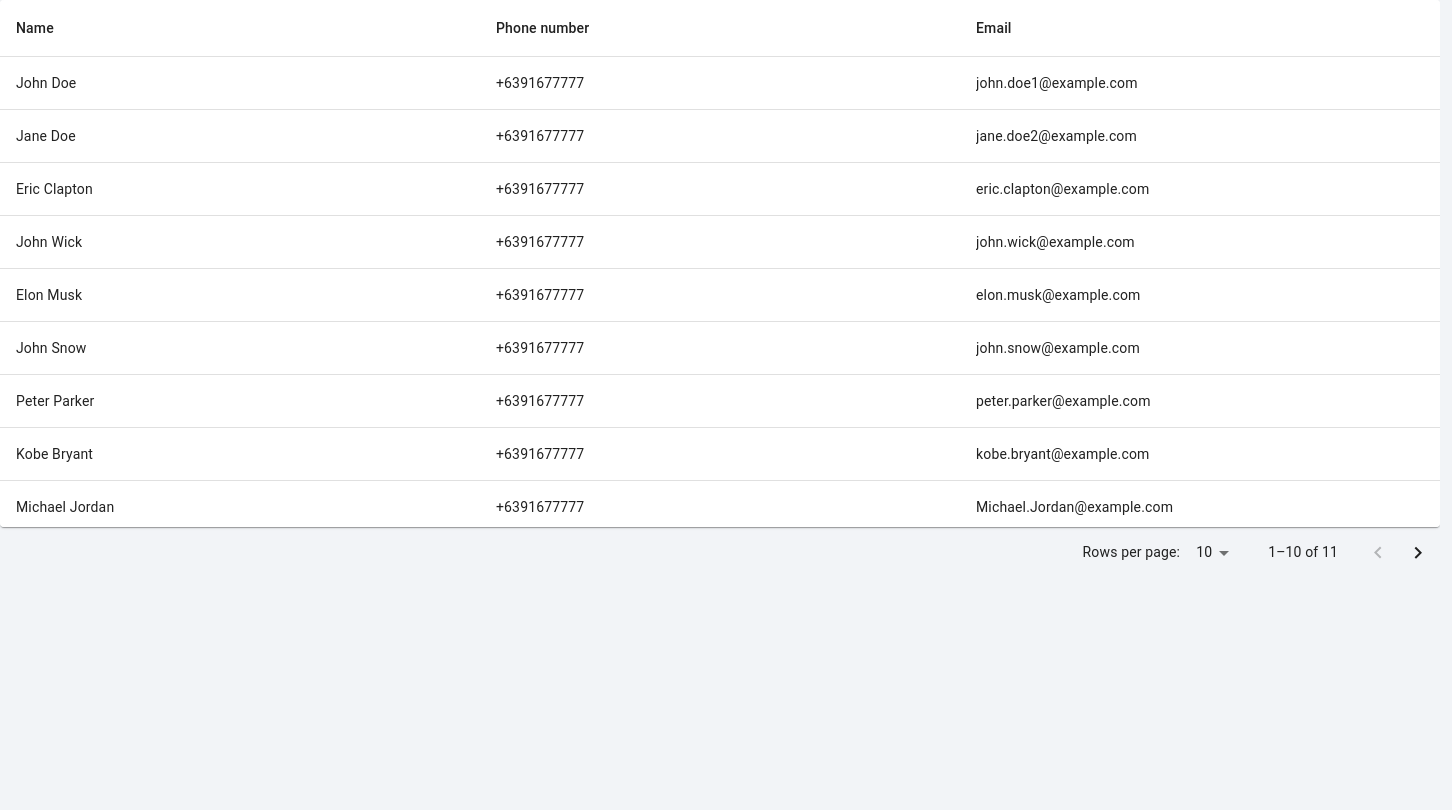
Test case: ClientsTable › Pagination › go to next page once next button is clicked
Click the button named "Go to next page".
click(1418, 552)  # box [1398,532,1438,572]
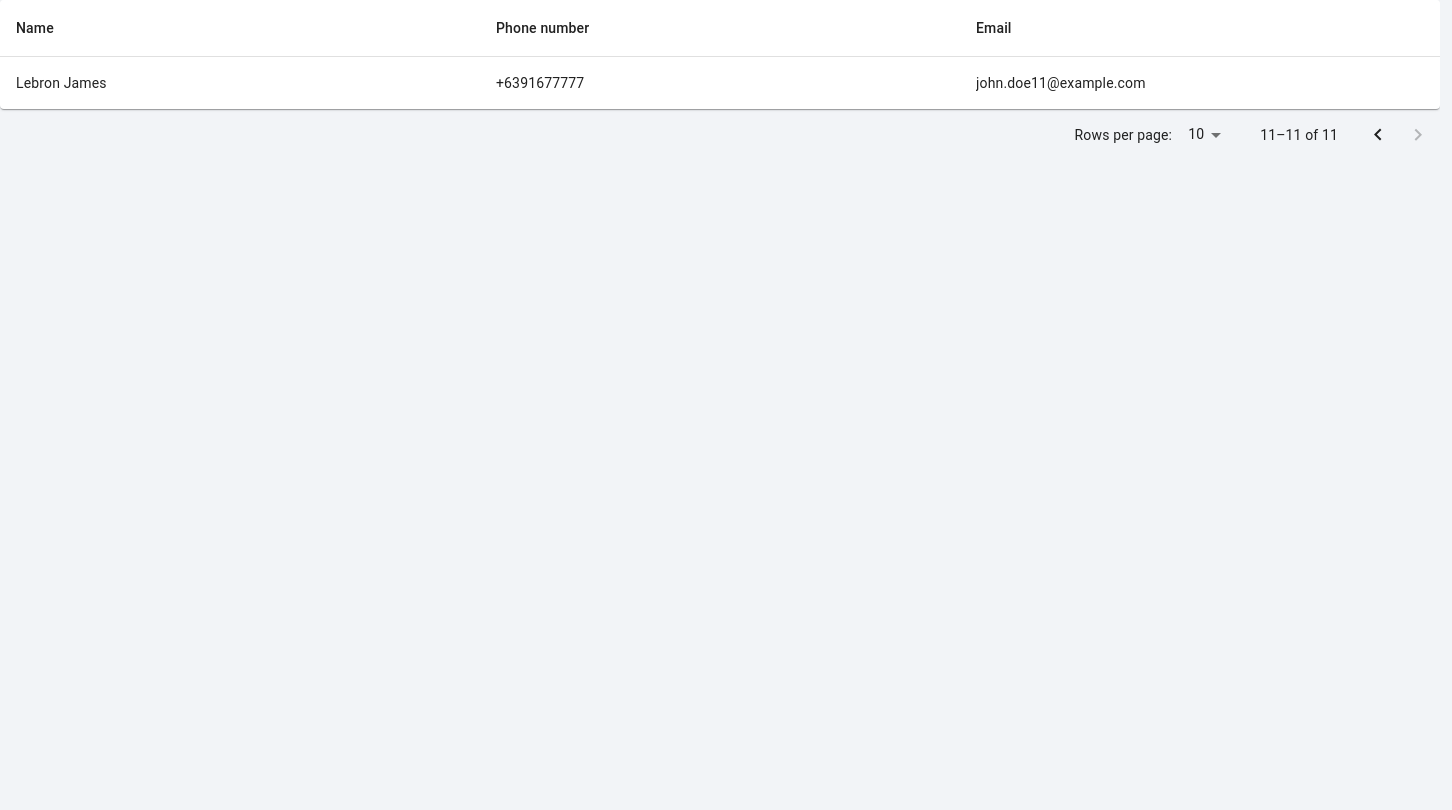
Expected: the number of rows is 2, [0,0,1440,57]; [0,57,1440,109]
Expected: the text "11–11 of 11" is shown, [1260,125,1338,145]
